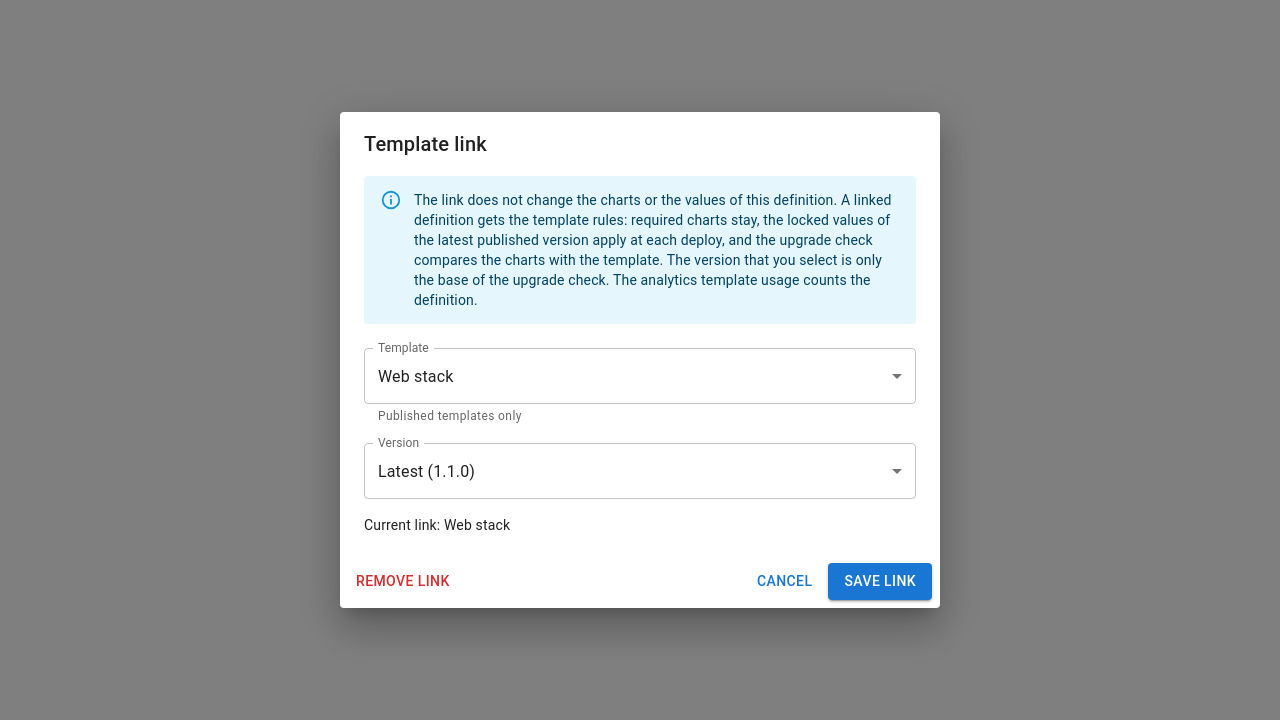
Test: TemplateLinkDialog › shows the server error
Click the button "Save link": (880,582) [828, 563, 932, 600]
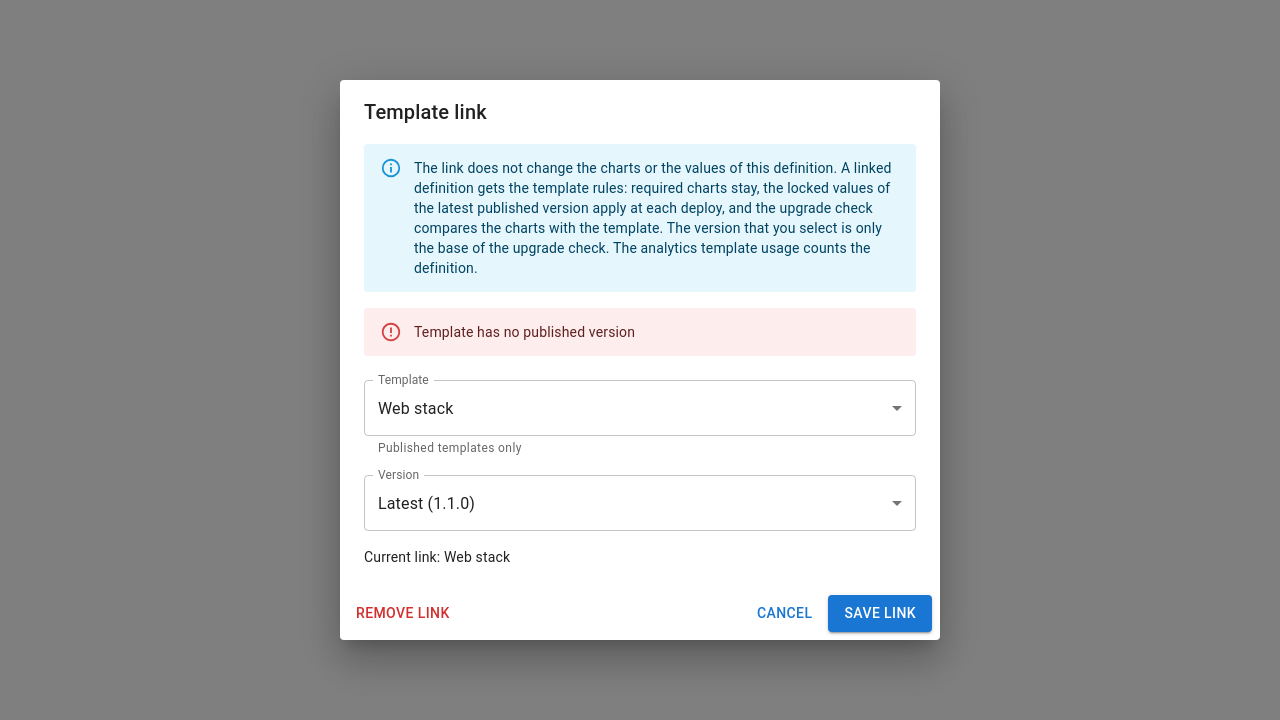
Expected: the text "Template has no published version" is shown, [414, 324, 635, 340]
